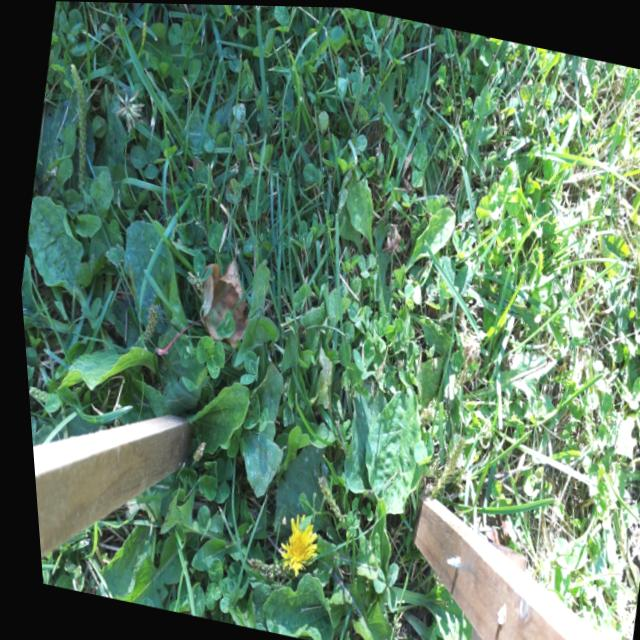base: (247, 516, 272, 550)
flower: (267, 509, 316, 575)
